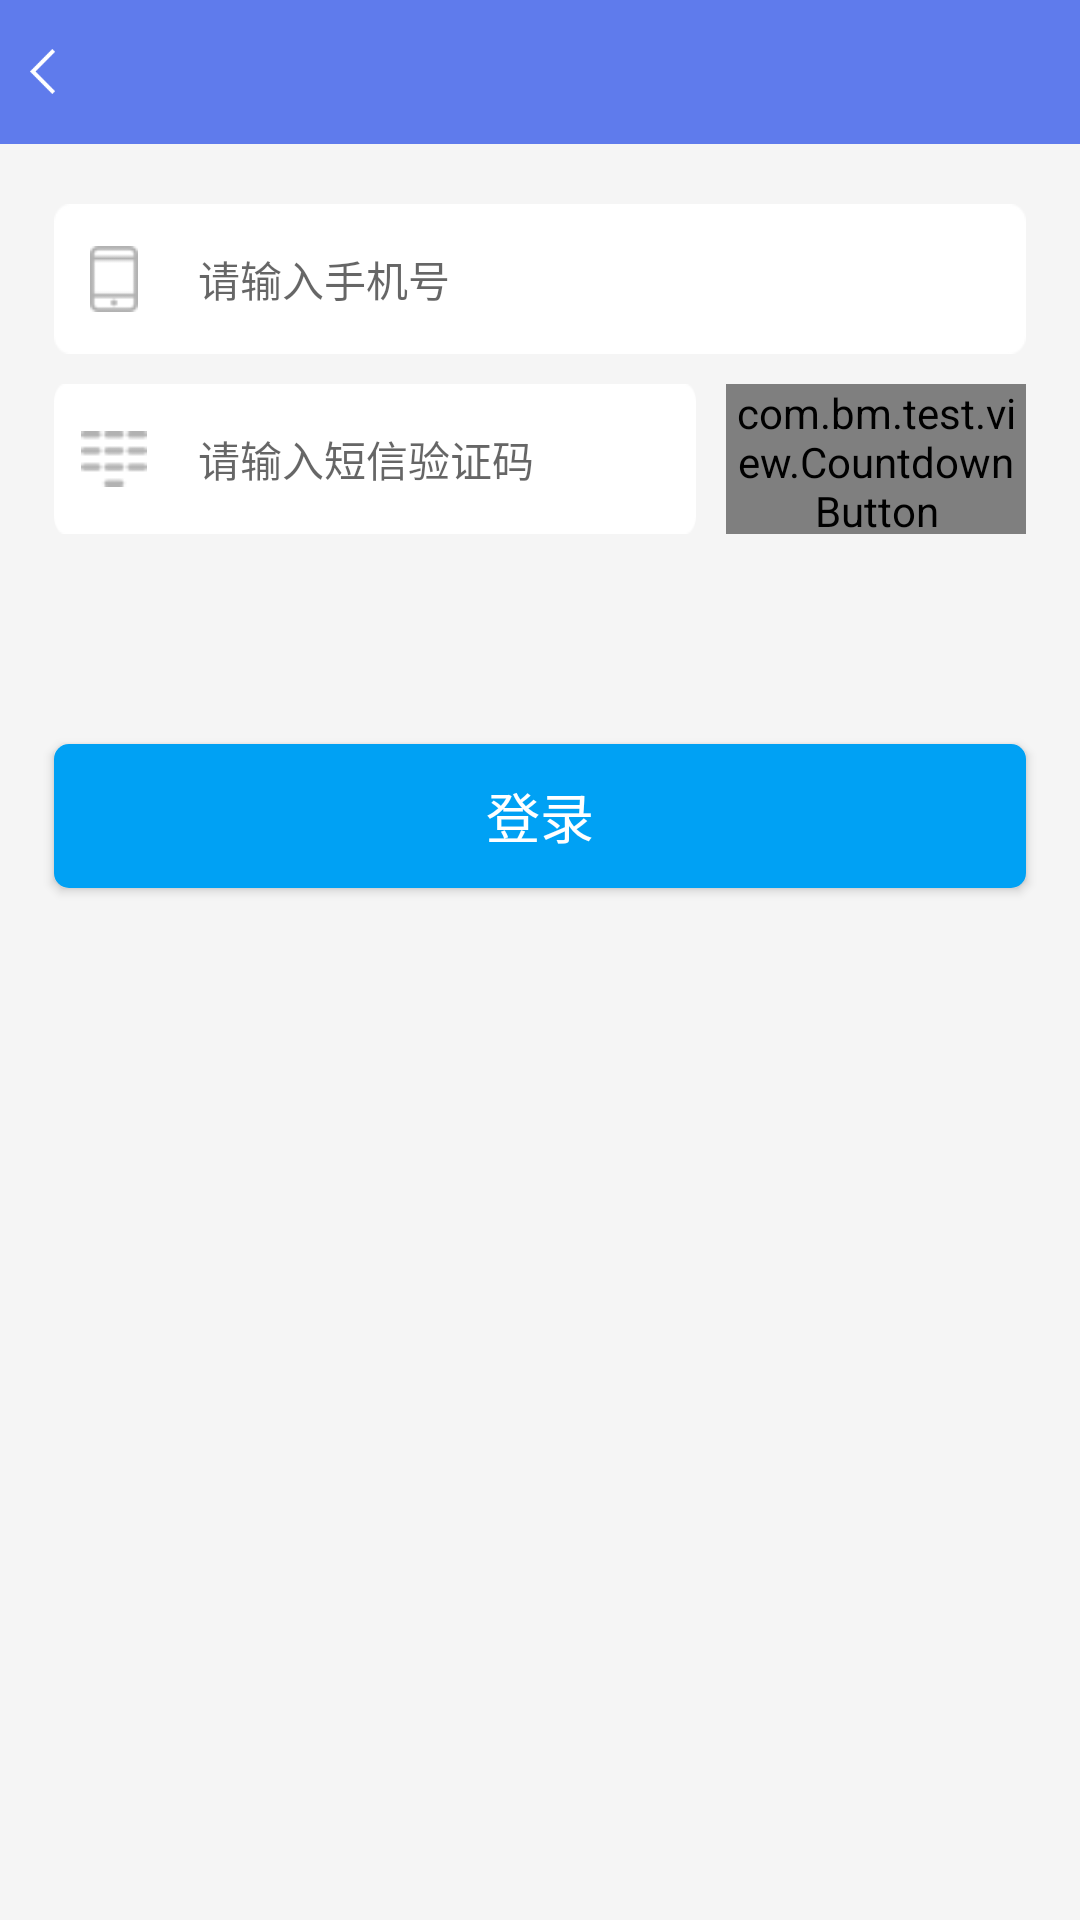

Named icons in this screenshot (1080 x 1920) and their centers, [x,y]:
login tel: [114,279]
public back: [42,71]
yzm dial: [114,459]
